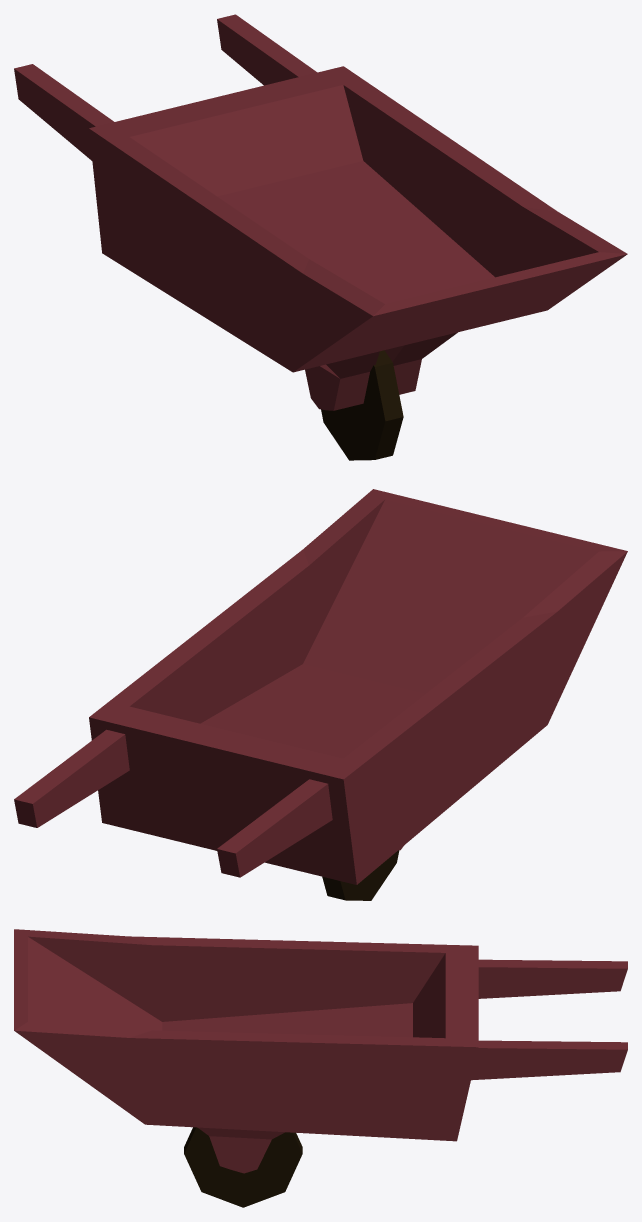
The model's file is Wheel Barrow.fbx.
The picture shows the model from 3 angles, top to bottom: view 1: azimuth 30°, elevation 25°; view 2: azimuth 150°, elevation 25°; view 3: azimuth 270°, elevation 25°; orthographic projection. The views are drawn at different scales.
Parts seen in each view (by area): view 1: Cube.051, Cylinder.005; view 2: Cube.051, Cylinder.005; view 3: Cube.051, Cylinder.005.
Boxes of the visible parts, x1=… form: Cube.051: x1=14, y1=14, x2=627, y2=410; Cylinder.005: x1=321, y1=350, x2=403, y2=460; Cube.051: x1=14, y1=489, x2=627, y2=884; Cylinder.005: x1=322, y1=850, x2=399, y2=900; Cube.051: x1=14, y1=929, x2=627, y2=1173; Cylinder.005: x1=184, y1=1127, x2=302, y2=1207.
Bounding box in the file's own units: 38.23 × 39.62 × 97.68.
